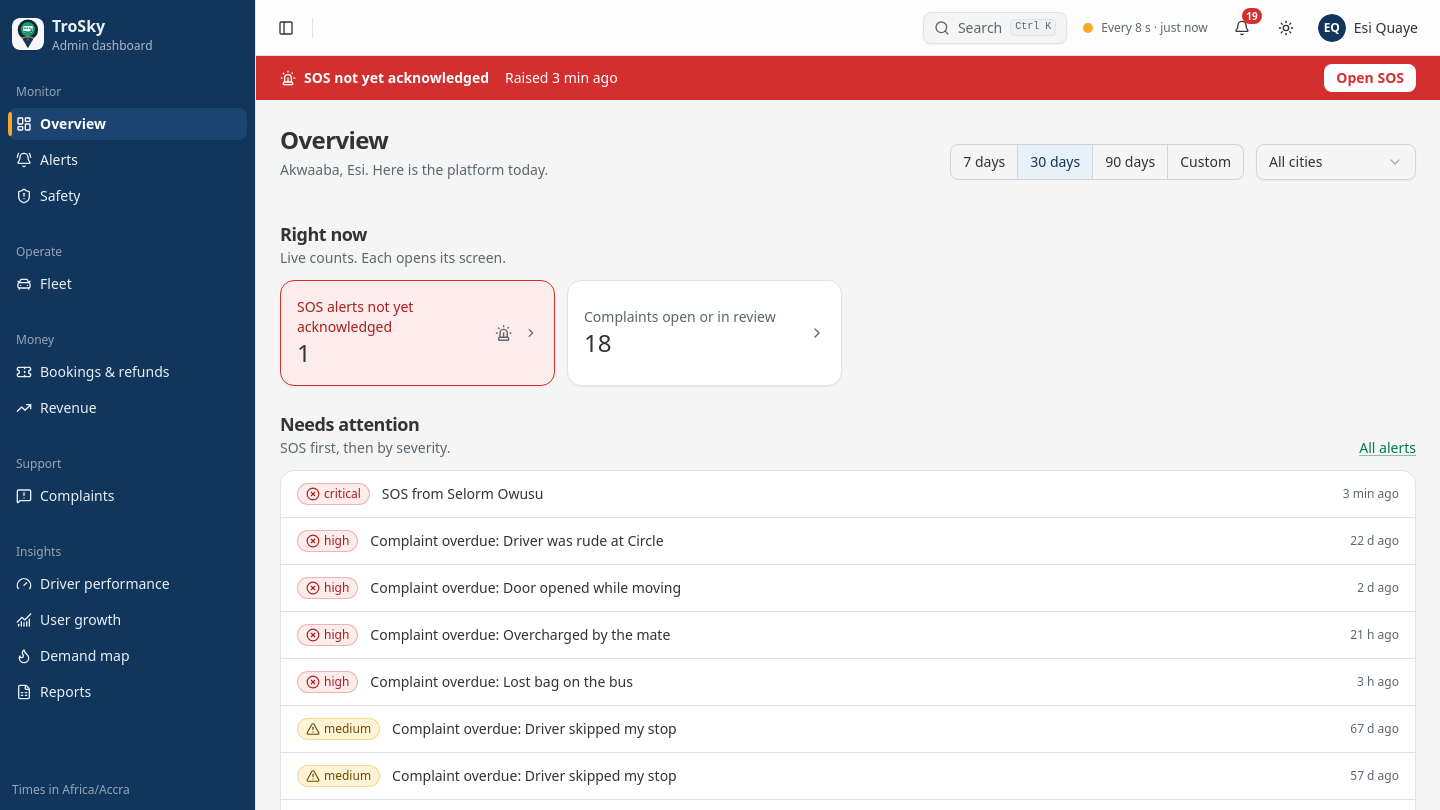
Test: the top bar › shows staff only their own queues
Step 1. Click the button named "waiting for you" → (1242, 28), box [1224,10,1260,46]
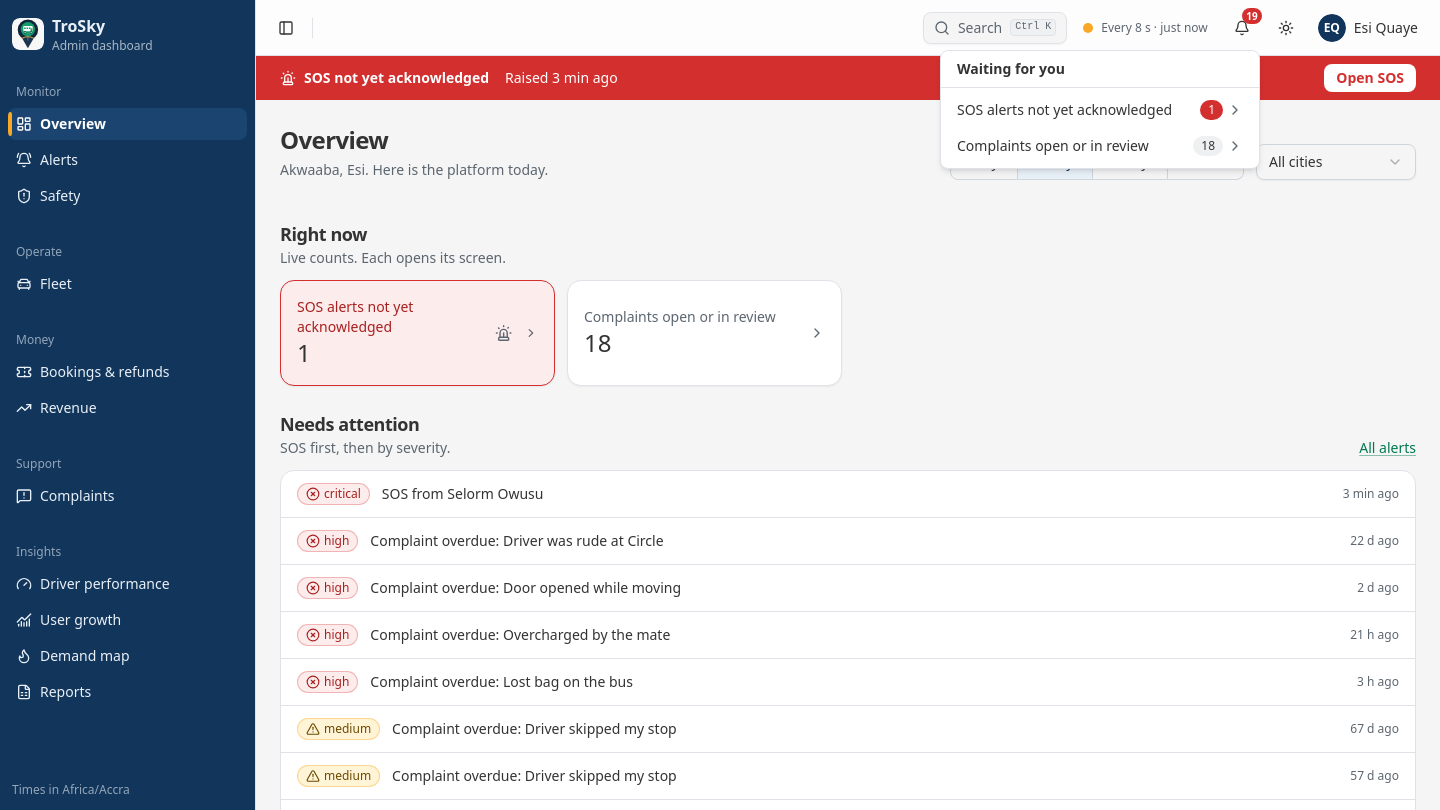
Now the link "Complaints open or in review 18" below "Waiting for you" is shown, box [957,136,1243,156]
